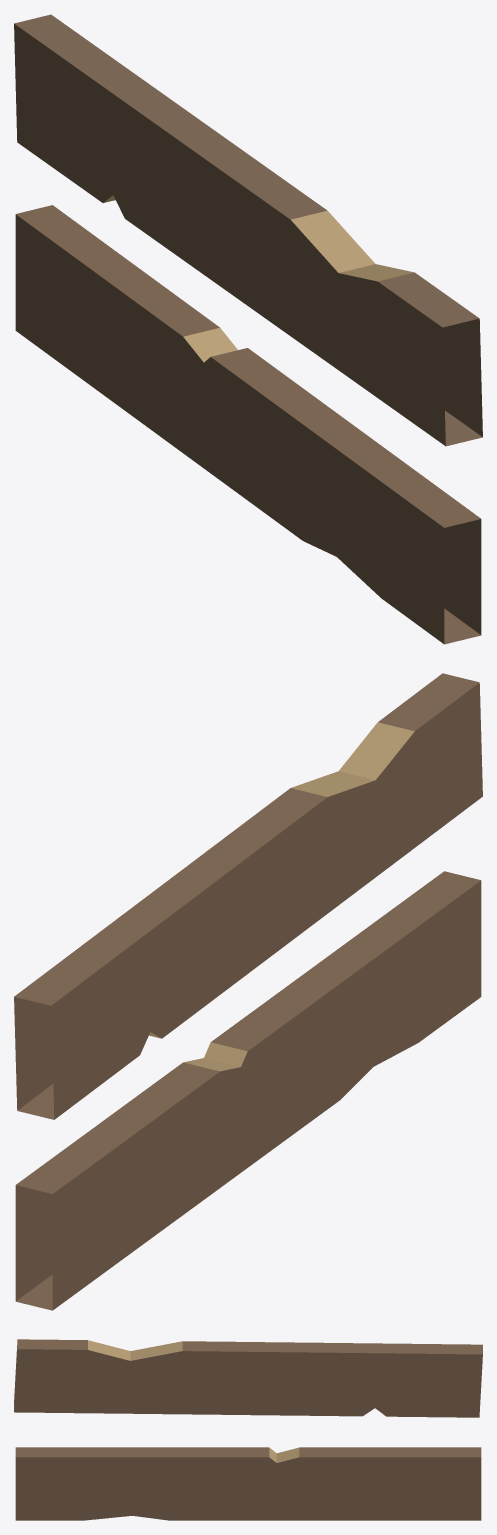
The model's file is Cave_Prop_Support_Wall_Boards_1.fbx.
The picture shows the model from 3 angles, top to bottom: view 1: azimuth 30°, elevation 25°; view 2: azimuth 150°, elevation 25°; view 3: azimuth 270°, elevation 25°; orthographic projection. The views are drawn at different scales.
Parts seen in each view (by area): view 1: object1, object2; view 2: object1, object2; view 3: object1, object2.
Boxes of the visible parts, left/top/right/bottom form: object1: left=15, top=205, right=481, bottom=644; object2: left=14, top=14, right=482, bottom=446; object1: left=15, top=871, right=481, bottom=1310; object2: left=14, top=673, right=482, bottom=1119; object1: left=15, top=1447, right=481, bottom=1520; object2: left=14, top=1339, right=482, bottom=1417.
Bounding box in the file's own units: 0.1 × 0.8124 × 2.01.
